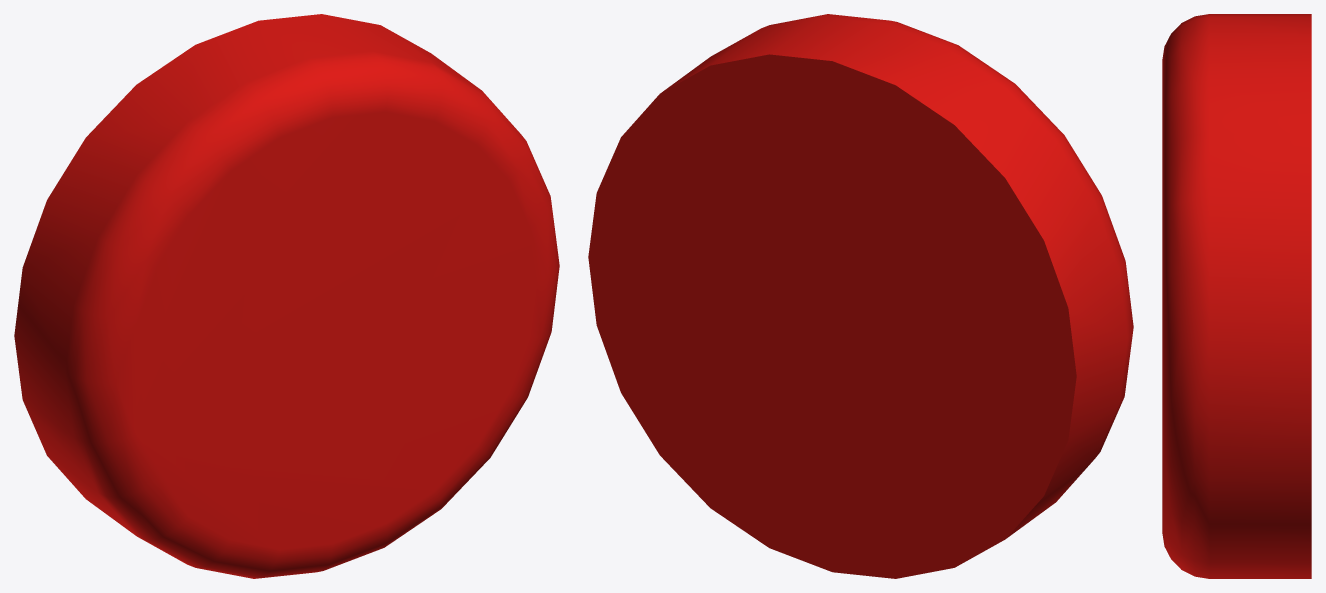
File: lock_dot_red.obj
3 renders of one model, left to right at view 1: azimuth 30°, elevation 25°; view 2: azimuth 150°, elevation 25°; view 3: azimuth 270°, elevation 25°, orthographic.
Visible parts, largest first — view 1: lock_dot_red; view 2: lock_dot_red; view 3: lock_dot_red.
Part boxes in pixels (bbox=[...]): lock_dot_red: bbox=[14, 14, 559, 578]; lock_dot_red: bbox=[588, 14, 1133, 578]; lock_dot_red: bbox=[1162, 14, 1311, 578].
Bounding box in the file's own units: 0.0072 × 0.0072 × 0.0019.
